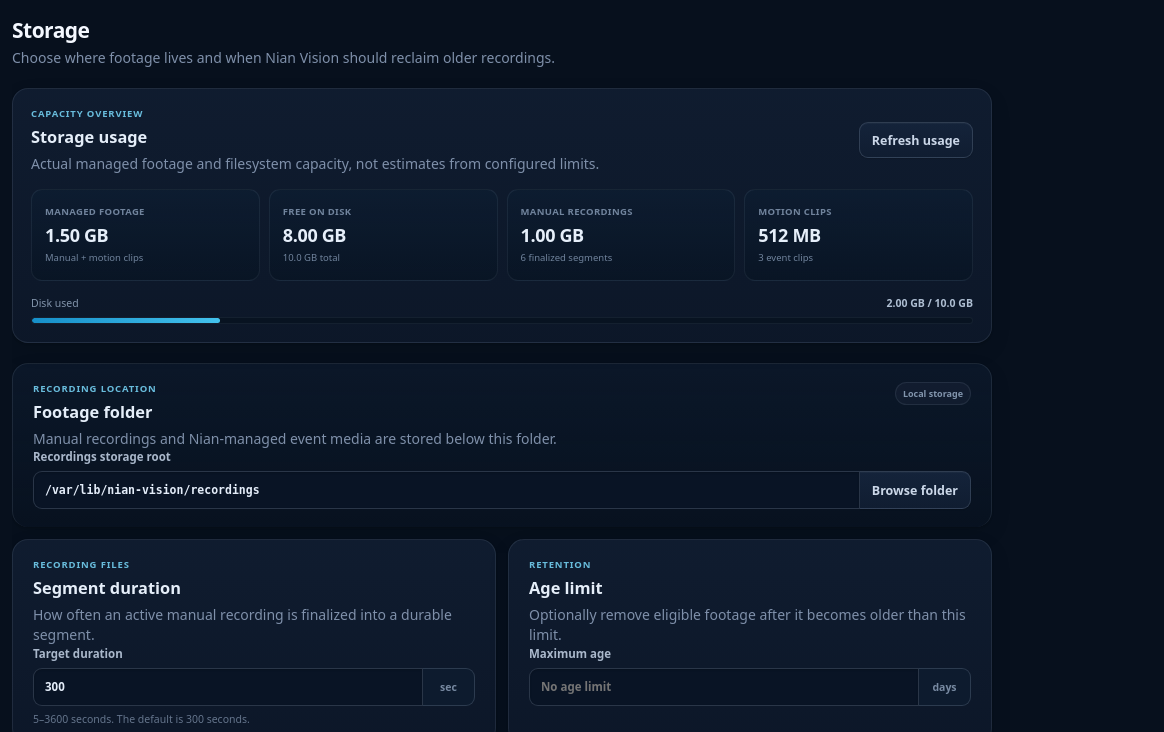
Test case: StorageScreen › uses the native directory picker for the recordings root
Expected: the field showing "/var/lib/nian-vision/recordings" is shown, [33,472,860,510]
Step 1. Click the button "Browse folder" → [915, 490], box [860,472,971,510]
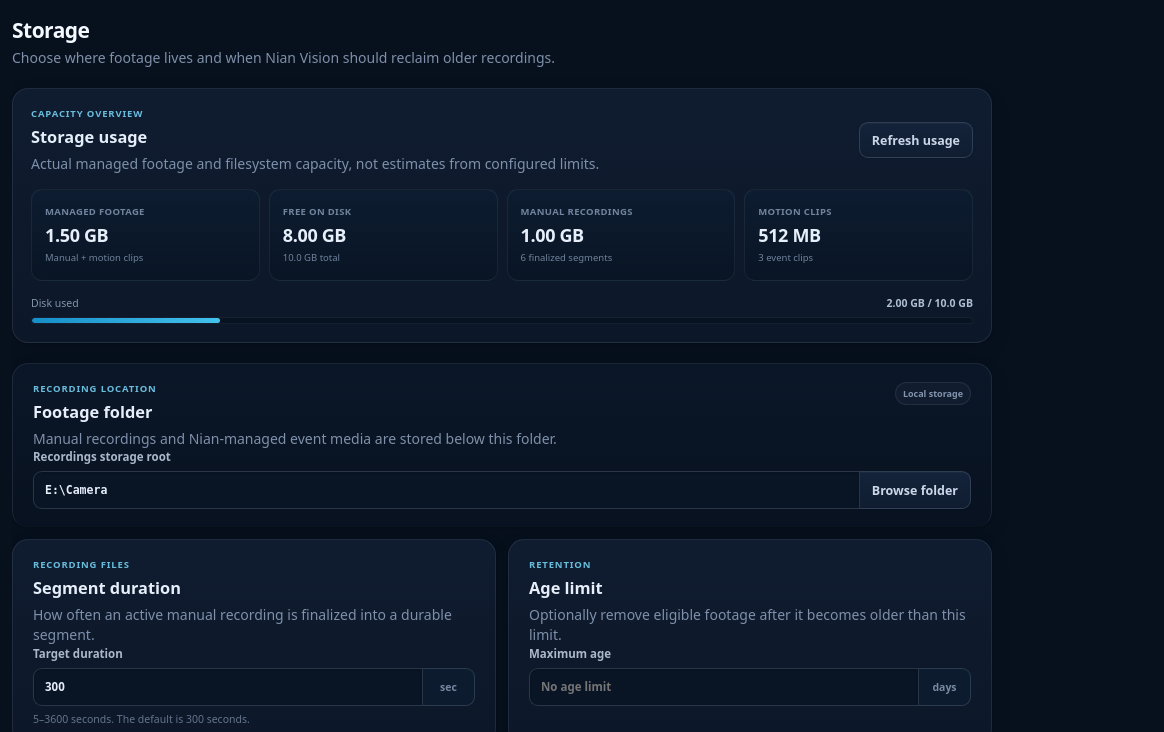
Now the field showing "E:\\Camera" is shown, box [33,472,860,510]
